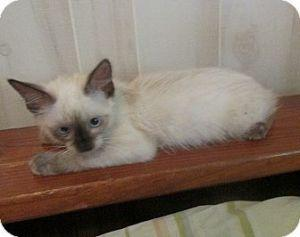siamese: (5, 45, 122, 165)
